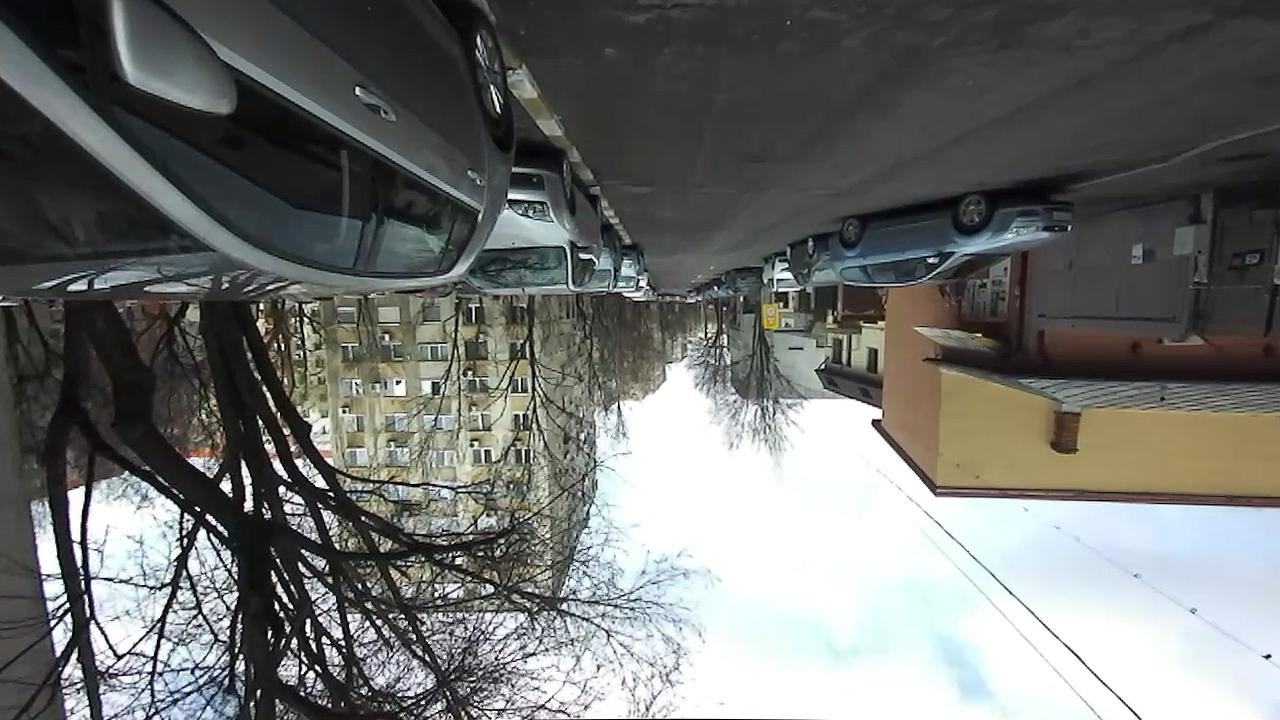pothole: (613, 0, 726, 26)
